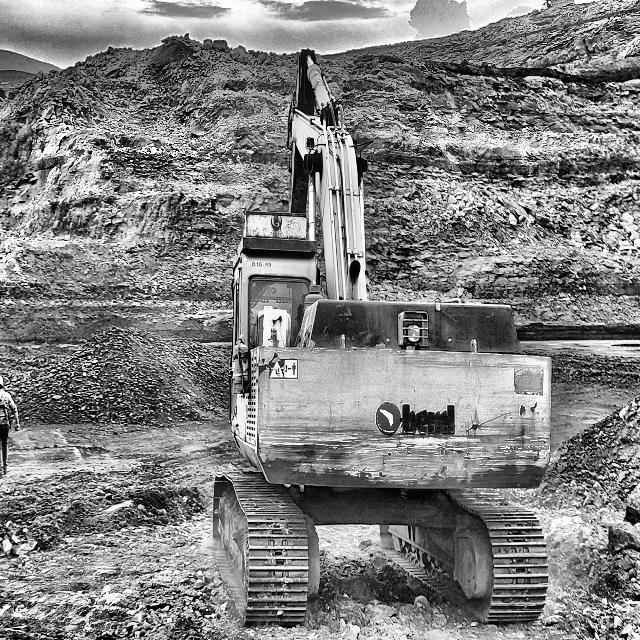excavator: (228, 52, 554, 631)
